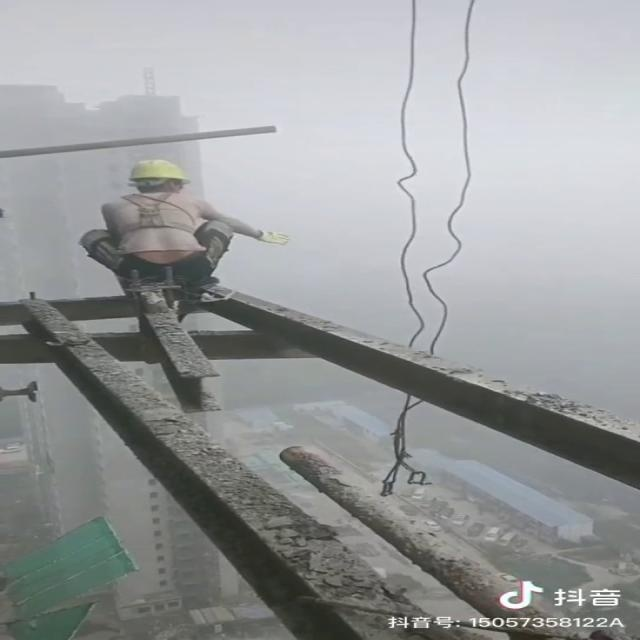Arnes_seguridad: (99, 191, 218, 246)
